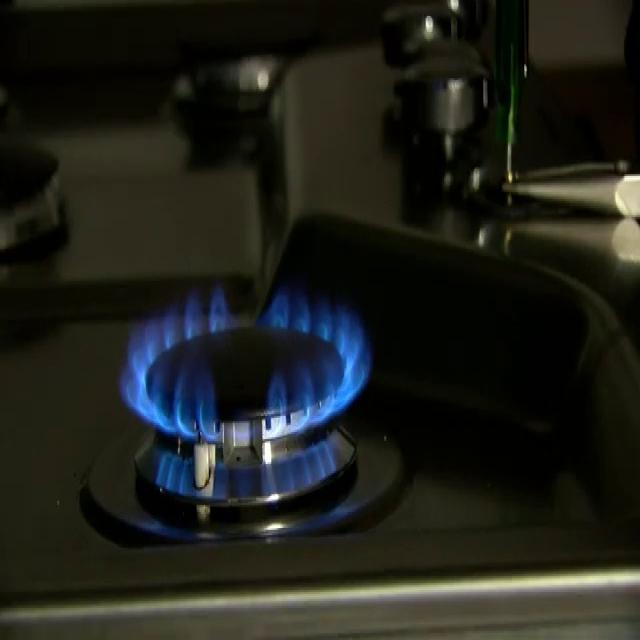fire: (90, 212, 444, 550)
